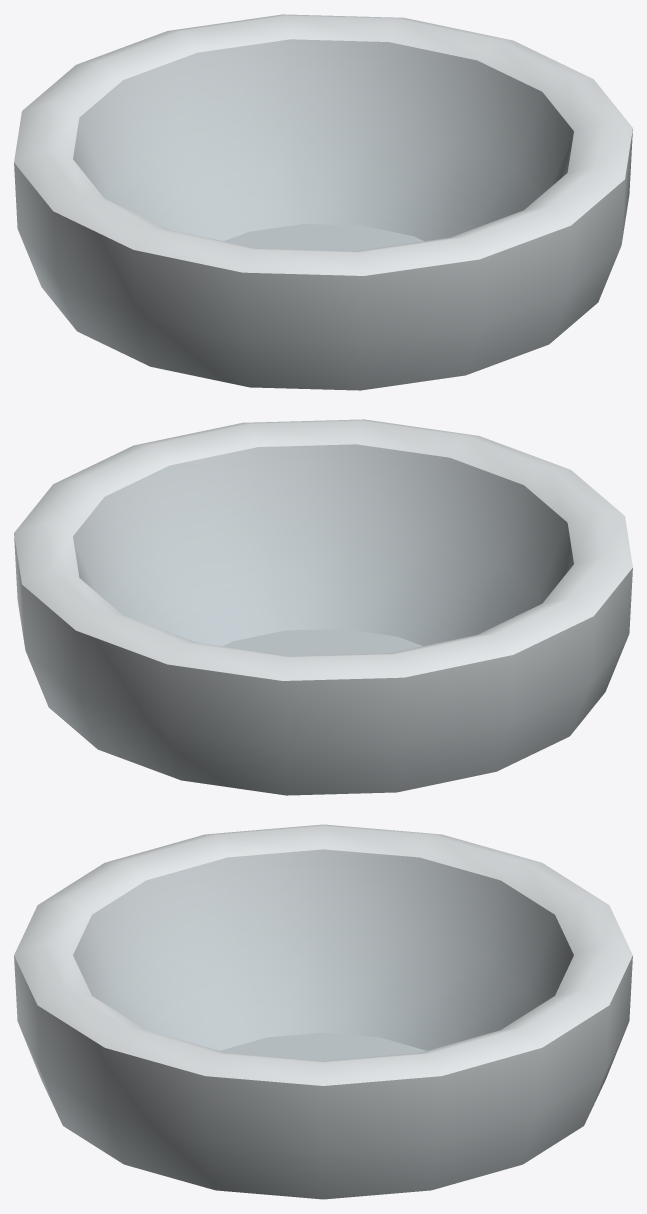
Rendered from kr_bowl.glb.
3 renders of one model, top to bottom at view 1: azimuth 30°, elevation 25°; view 2: azimuth 150°, elevation 25°; view 3: azimuth 270°, elevation 25°, orthographic.
Visible parts, largest first — view 1: bowl; view 2: bowl; view 3: bowl.
Part boxes in pixels (x1,y1,x2,y2): bowl: [14, 14, 632, 390]; bowl: [14, 419, 632, 795]; bowl: [14, 824, 632, 1199].
Size of the model in its own units: 0.95 by 0.3 by 0.95.
Materials: 1 (1 with a texture image).
